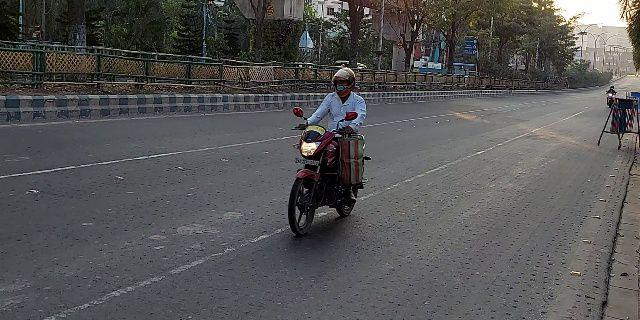Motorbike: (280, 63, 373, 237)
